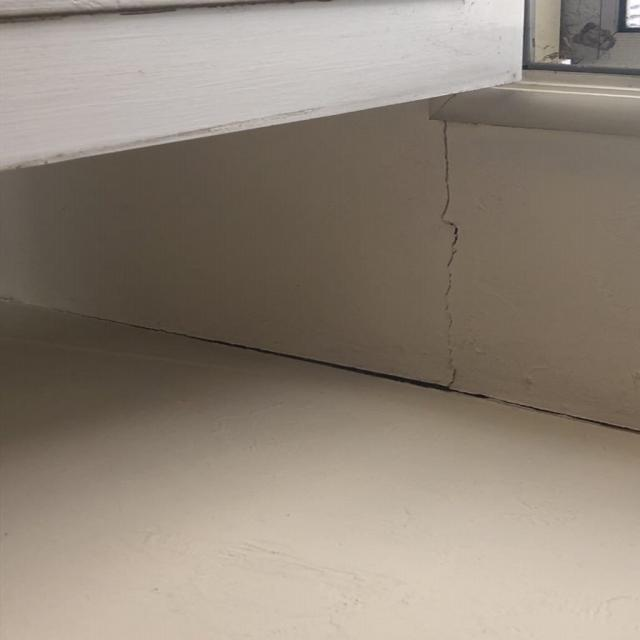leak: (116, 314, 640, 436)
